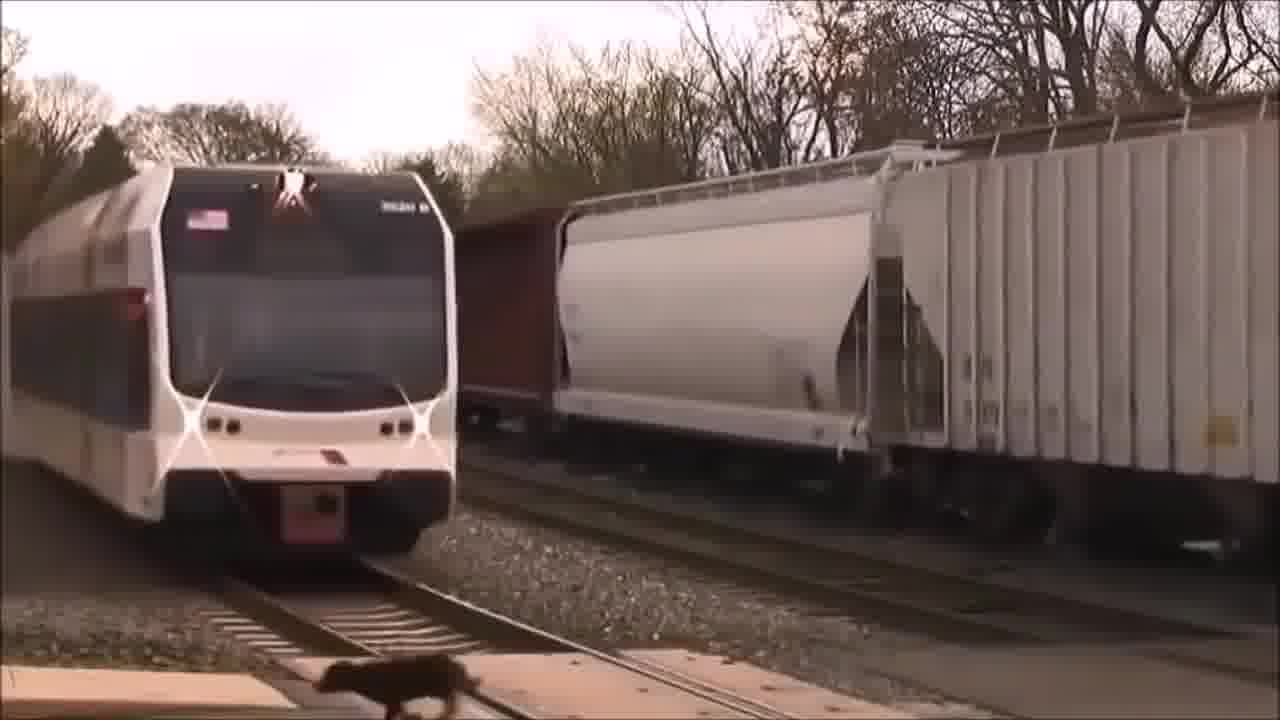crossing railway track: (173, 539, 827, 720)
